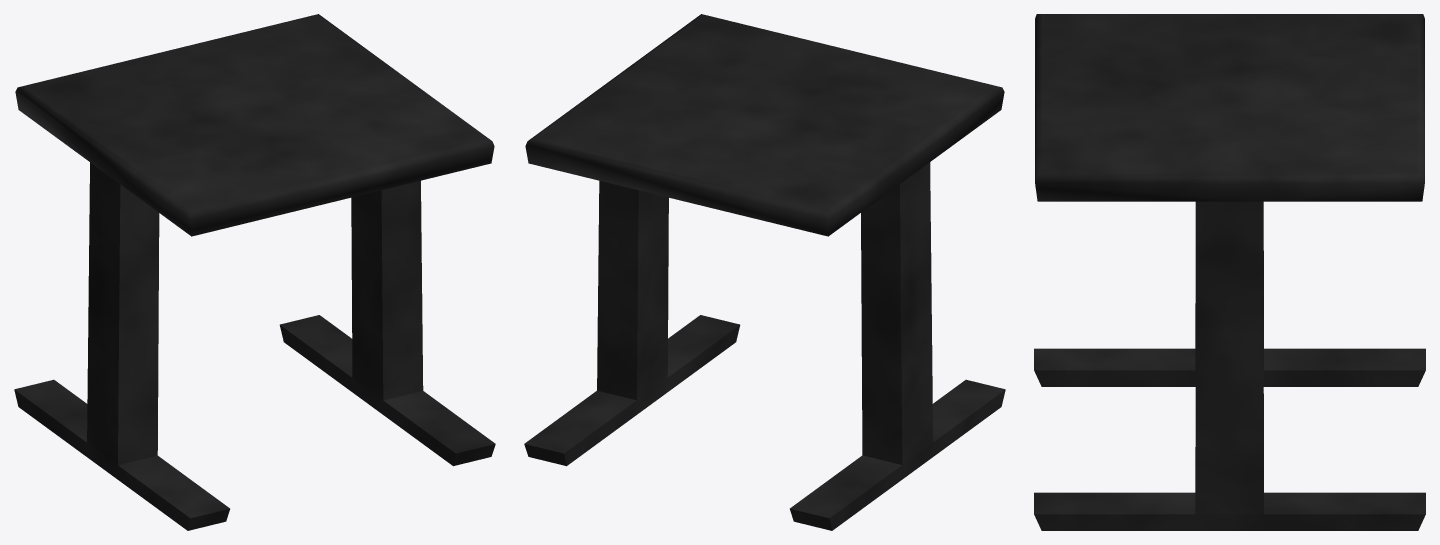
Rendered from desk.glb.
3 renders of one model, left to right at view 1: azimuth 30°, elevation 25°; view 2: azimuth 150°, elevation 25°; view 3: azimuth 270°, elevation 25°, orthographic. The views are drawn at different scales.
Parts seen in each view (by area): view 1: bake_only; view 2: bake_only; view 3: bake_only.
Boxes of the visible parts, box(x1,y1,x2,y2) form: bake_only: box(14, 14, 495, 530); bake_only: box(524, 14, 1005, 530); bake_only: box(1034, 14, 1425, 530).
Size of the model in its own units: 1 by 1 by 1.
Materials: 1 (1 with a texture image).
